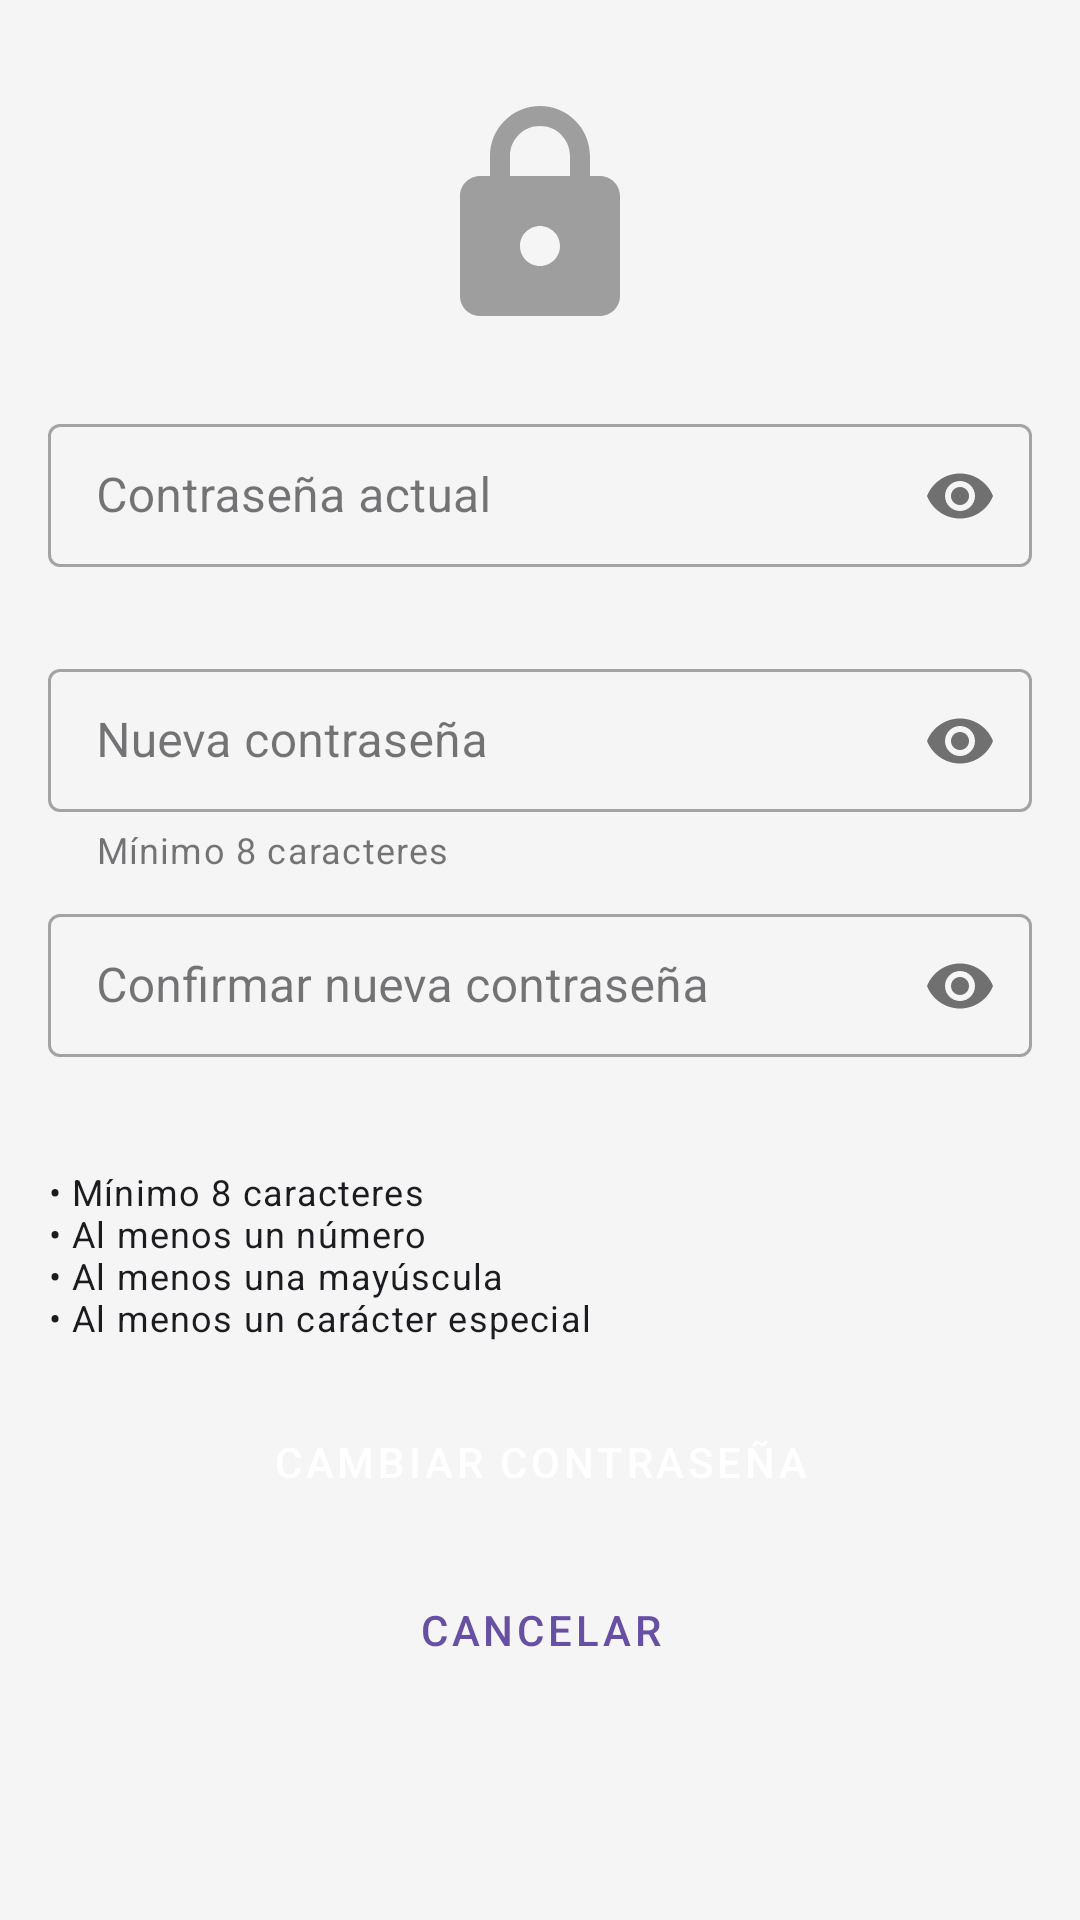

Where icons sit on this 1080px x 1920px app screen, as (x1, y1, x2, y2):
Icono de candado: (460, 106, 620, 316)
